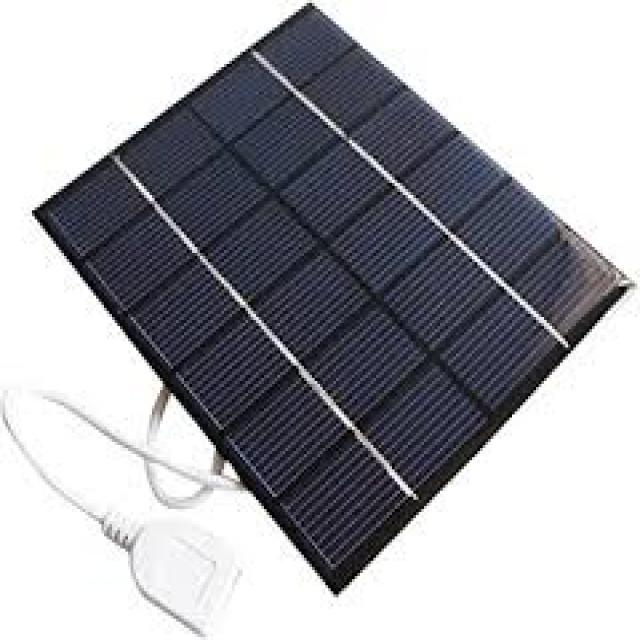no faulty: (27, 0, 616, 589)
